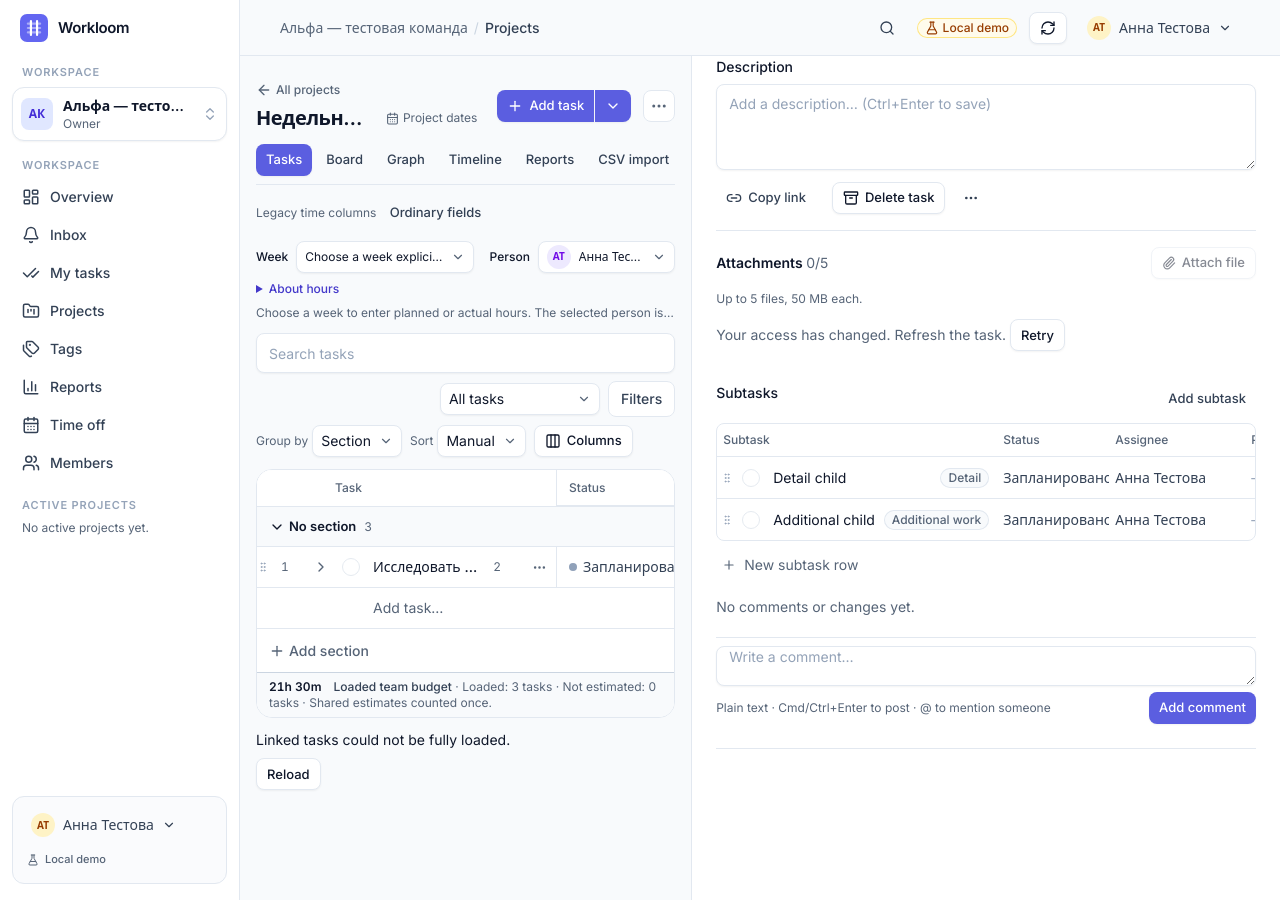
drawer current and original estimates › reads the parent’s package for a detail child and the child’s own package for additional work
(page scrolled)
Click the button with aria-label "Open subtask “Detail child”". click: x=924, y=478
box: [854, 462, 993, 494]
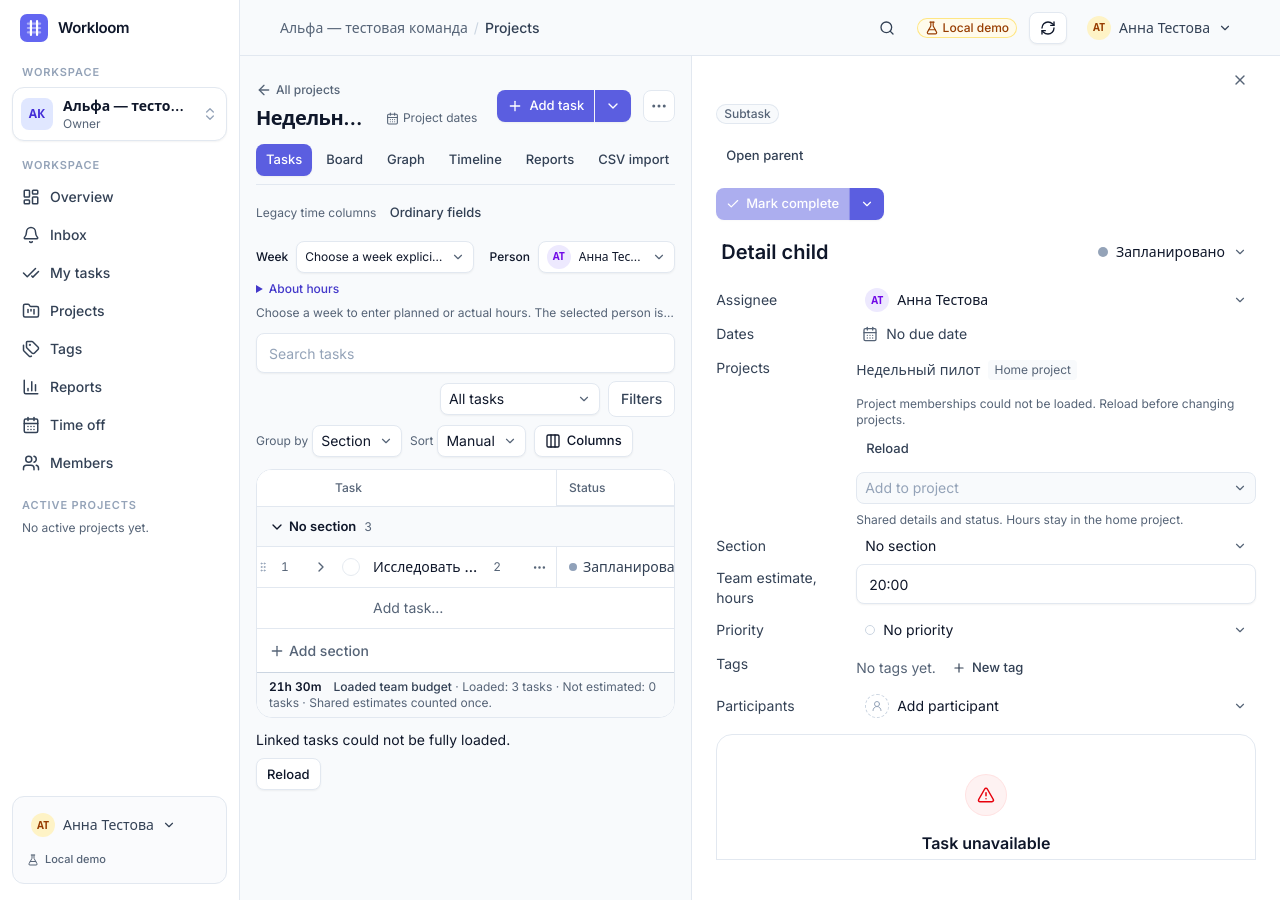
Click the button "Open parent". click: x=765, y=156
box: [716, 140, 813, 172]
(page scrolled)
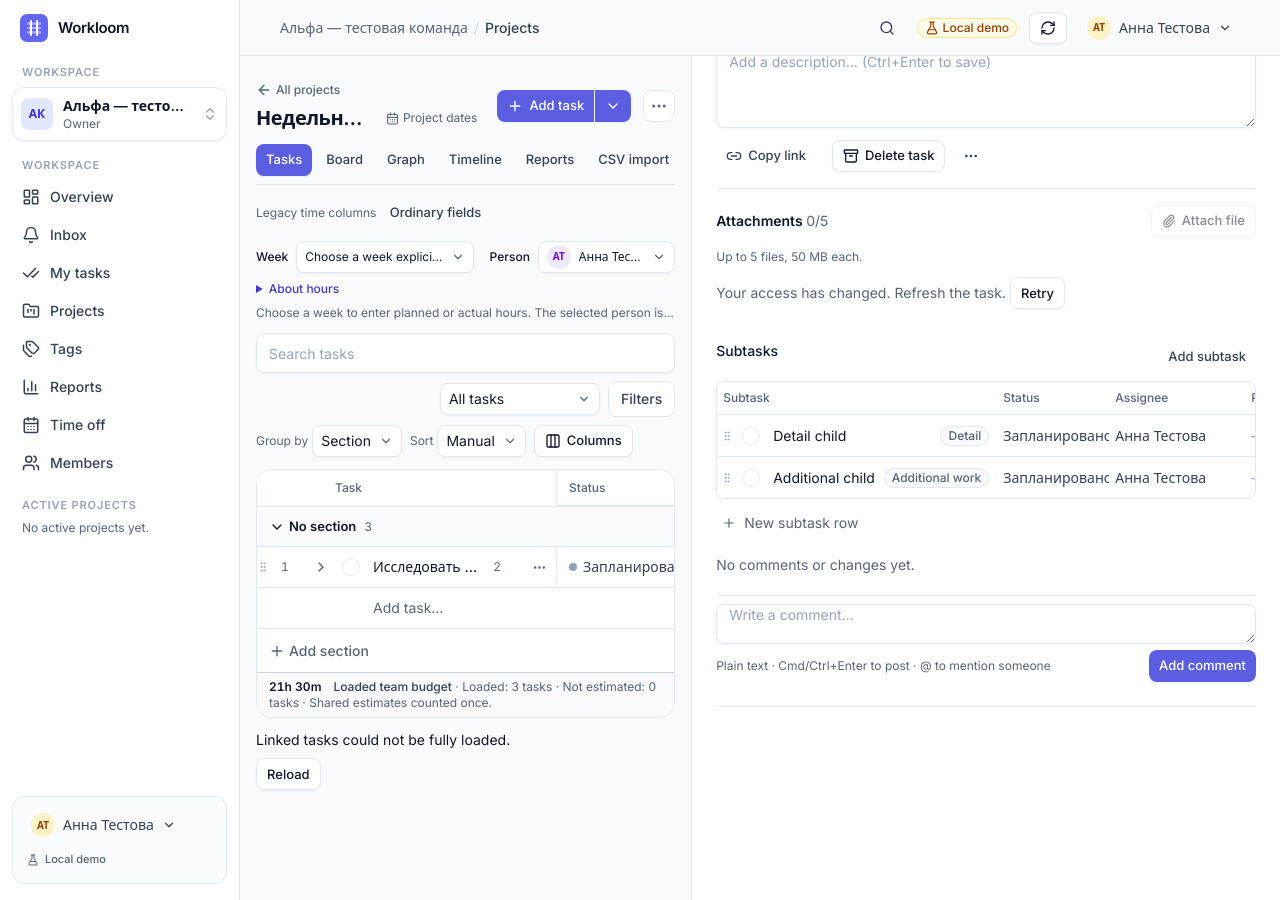
Click the button with aria-label "Open subtask “Additional child”". click: x=938, y=478
box: [883, 462, 993, 494]
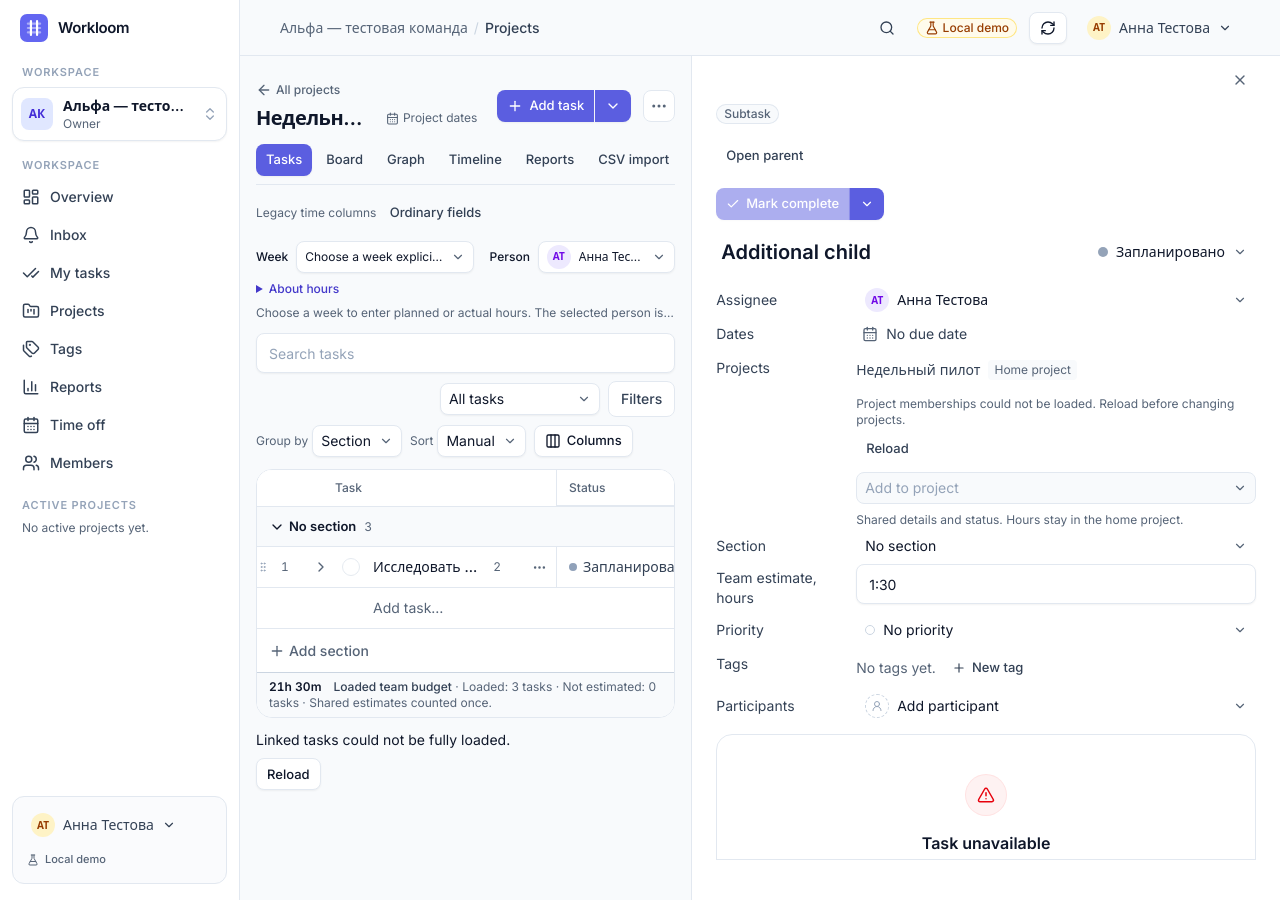
Expected: the field labelled "Team estimate, hours" holds "1:30", [856, 564, 1256, 604]
